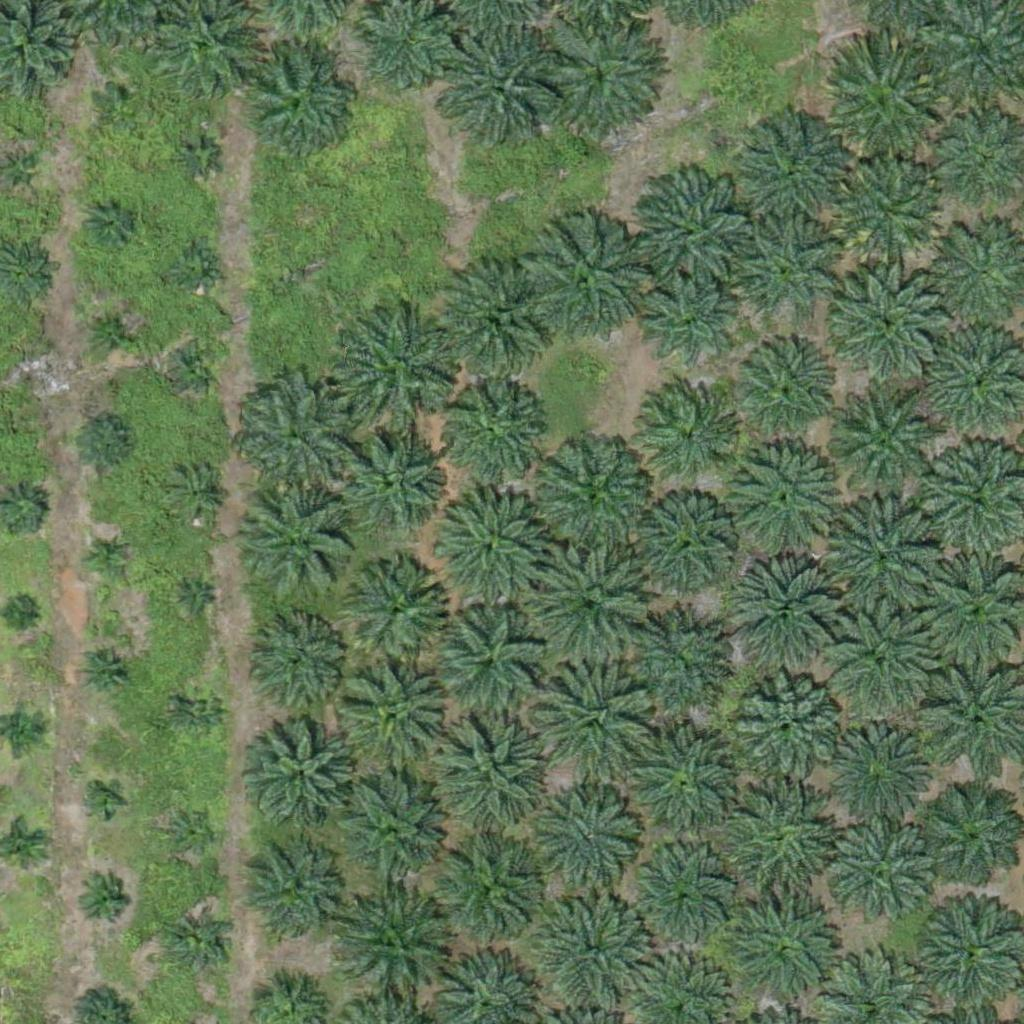Kelapa_Sawit: (437, 26, 562, 152), (540, 15, 665, 141), (627, 169, 752, 295), (521, 222, 646, 348), (338, 307, 463, 433), (528, 540, 653, 666), (530, 430, 655, 556), (716, 781, 841, 907), (726, 891, 851, 1017), (425, 708, 550, 834), (532, 656, 657, 782), (820, 44, 945, 169), (440, 261, 553, 375), (540, 893, 653, 1007), (242, 46, 355, 159), (834, 263, 947, 376), (831, 390, 944, 503), (825, 503, 938, 616), (724, 437, 837, 550), (824, 611, 937, 724), (430, 488, 543, 601), (429, 605, 542, 718), (818, 714, 931, 827), (725, 559, 837, 673), (432, 837, 544, 951), (340, 893, 452, 1007), (336, 777, 448, 891), (339, 660, 451, 774), (239, 380, 351, 493), (248, 486, 360, 599), (827, 823, 939, 936), (733, 672, 845, 785), (628, 726, 740, 839), (838, 158, 938, 259), (748, 120, 848, 221), (736, 218, 836, 319), (732, 339, 832, 440), (638, 271, 738, 372), (341, 430, 441, 531), (347, 558, 447, 659), (631, 854, 731, 955), (543, 794, 643, 895), (636, 386, 736, 486), (634, 495, 734, 595), (619, 618, 719, 718), (440, 379, 540, 479), (252, 724, 352, 824), (240, 850, 340, 950), (257, 620, 344, 708), (72, 412, 135, 475), (171, 915, 233, 978), (78, 875, 128, 926), (171, 469, 221, 520), (87, 304, 137, 355), (176, 687, 226, 737), (85, 195, 135, 245), (171, 342, 221, 392), (174, 132, 224, 182), (170, 243, 220, 293), (93, 78, 143, 128), (82, 532, 132, 582), (165, 806, 215, 856), (81, 646, 131, 696), (85, 781, 123, 819), (17, 358, 42, 383), (183, 587, 208, 612), (6, 601, 31, 626)
